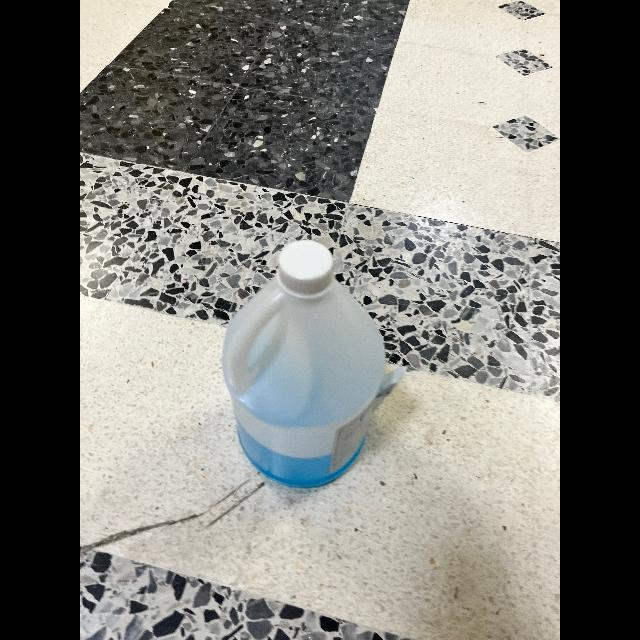chemical_plastic_gallon: (206, 220, 410, 504)
